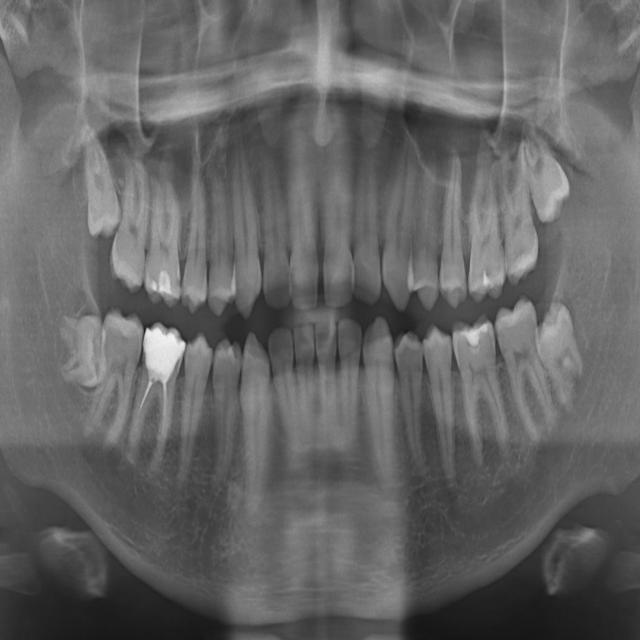CompositeResinRestoration: (139, 328, 184, 383), (456, 321, 488, 355), (149, 272, 171, 300), (485, 262, 494, 292)
DentalCaries: (513, 237, 526, 268), (174, 258, 182, 298), (497, 326, 507, 355)
ImpactedTooth: (519, 134, 575, 228), (75, 128, 121, 240), (541, 297, 586, 396), (52, 312, 106, 388)
RootCanalTreatment: (129, 382, 173, 485)
